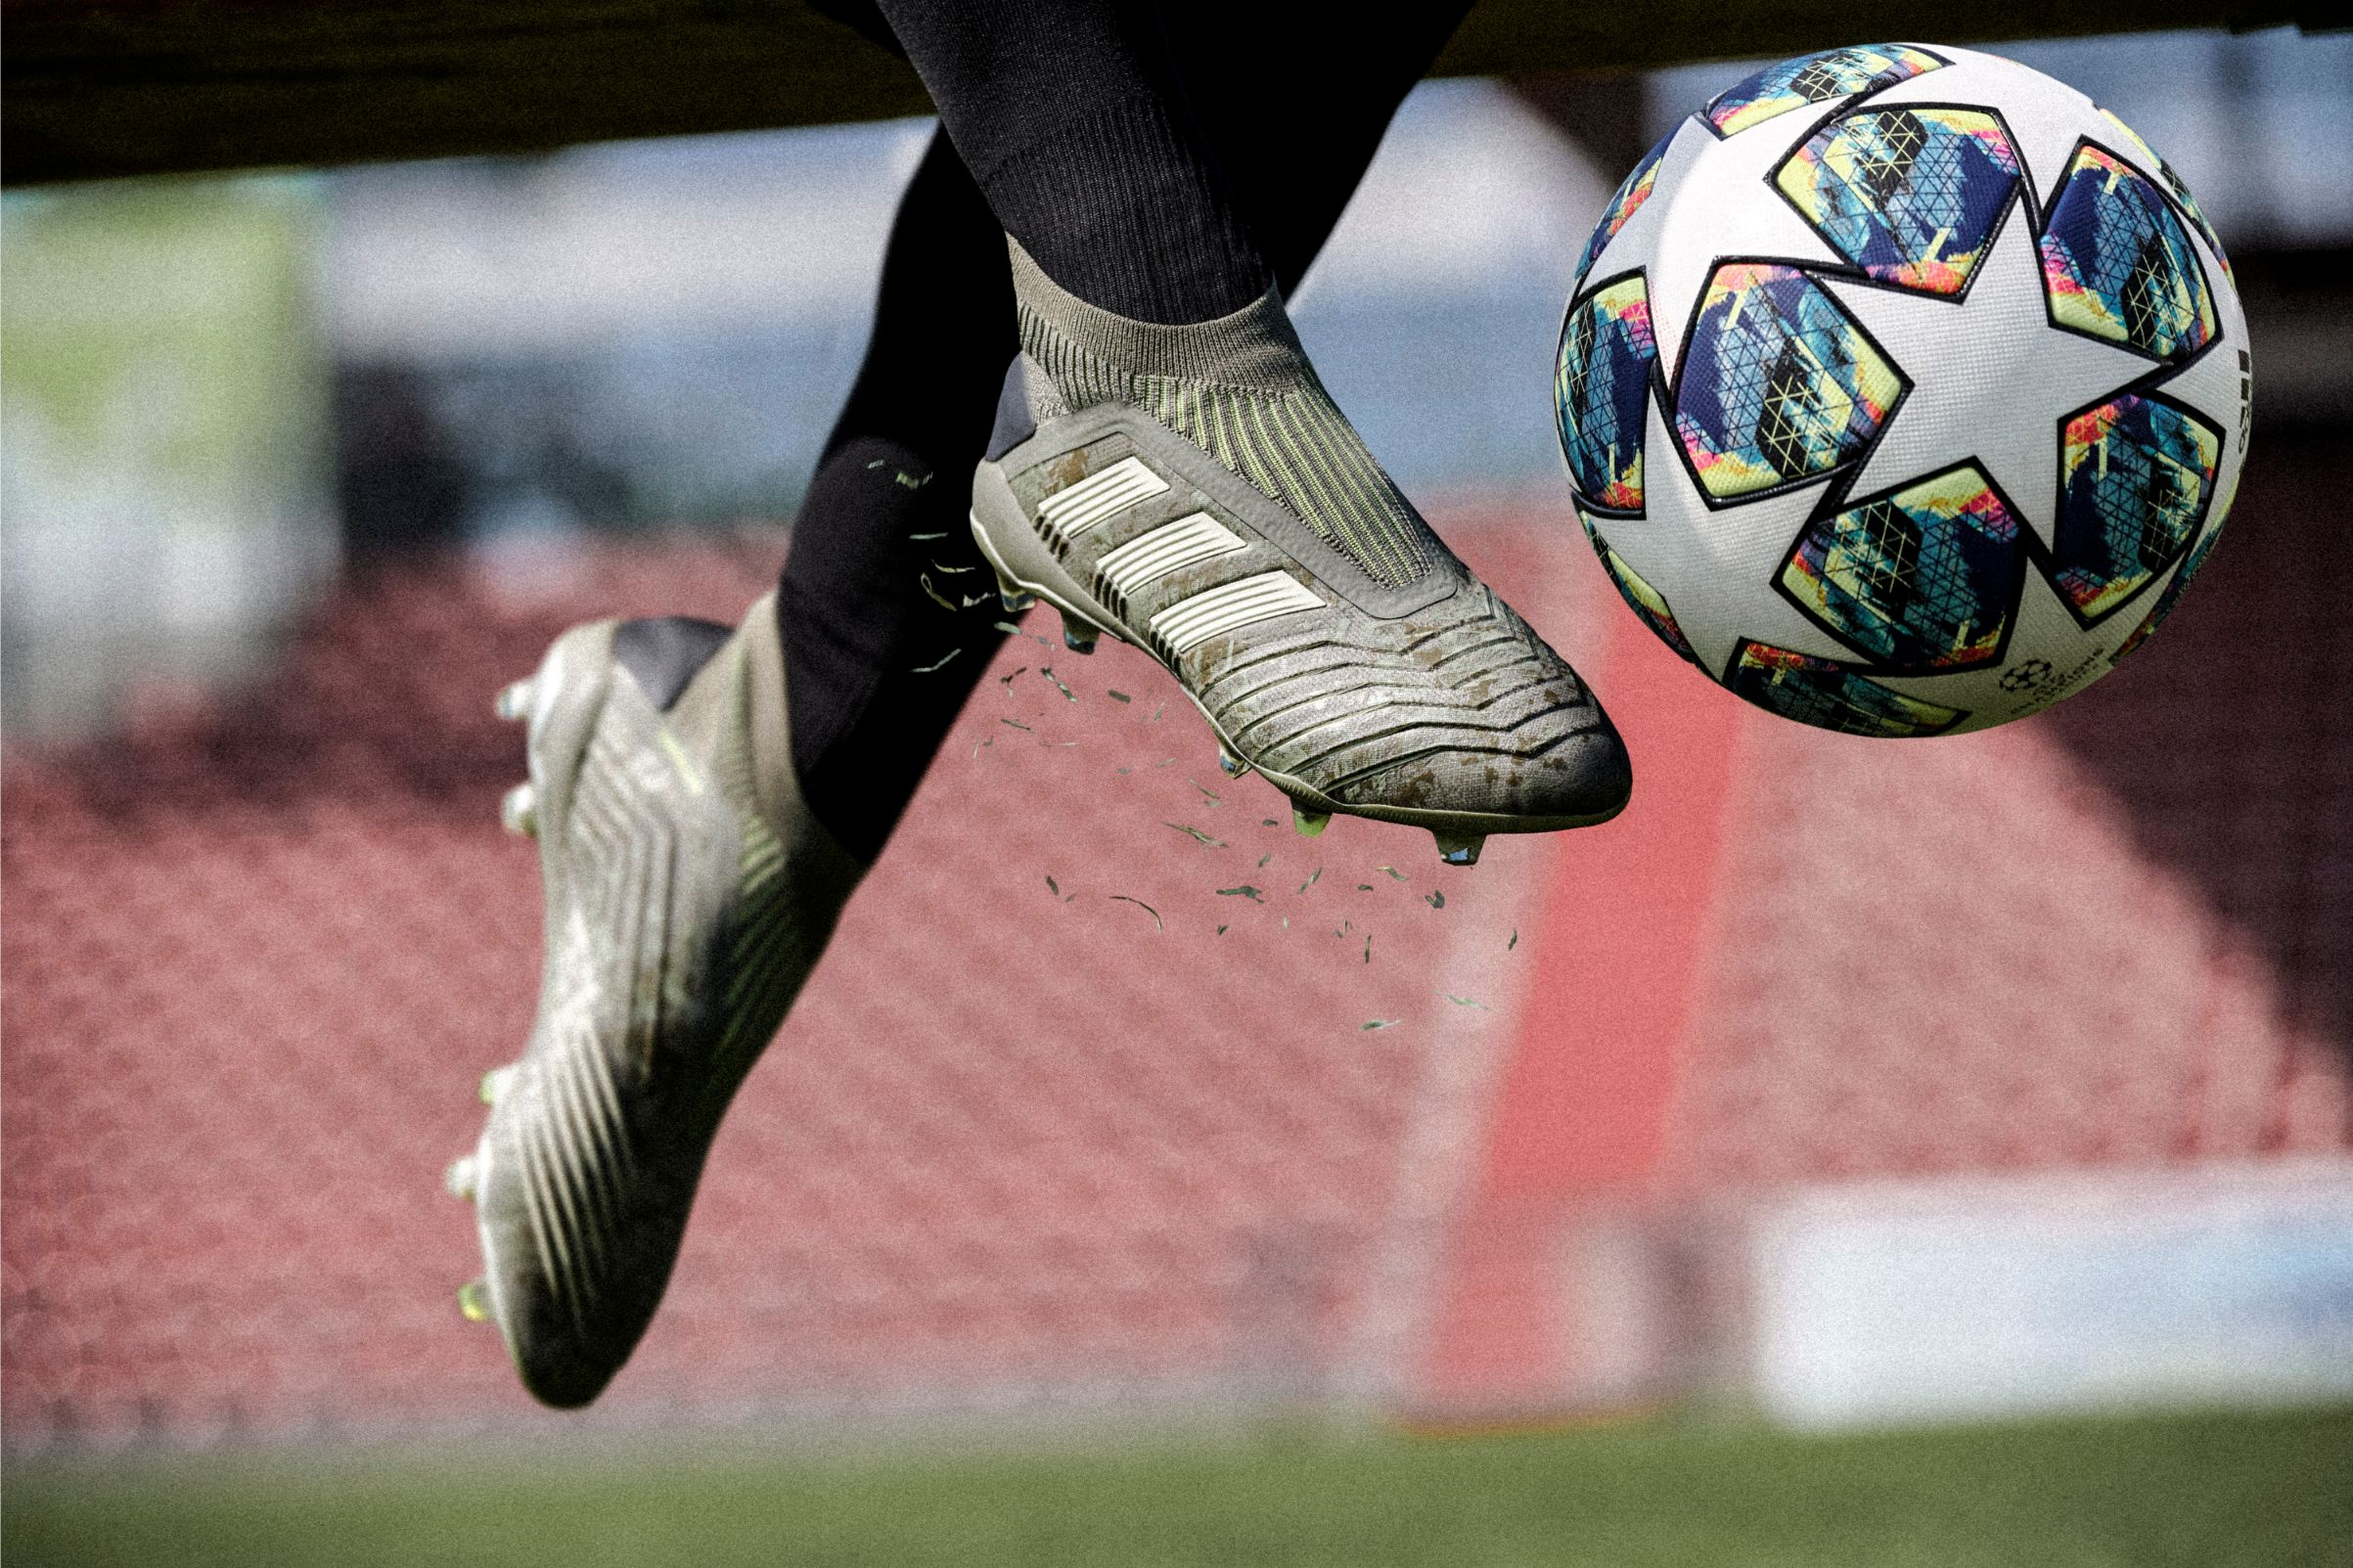football boots: (971, 278, 1637, 868), (444, 616, 813, 1414)
